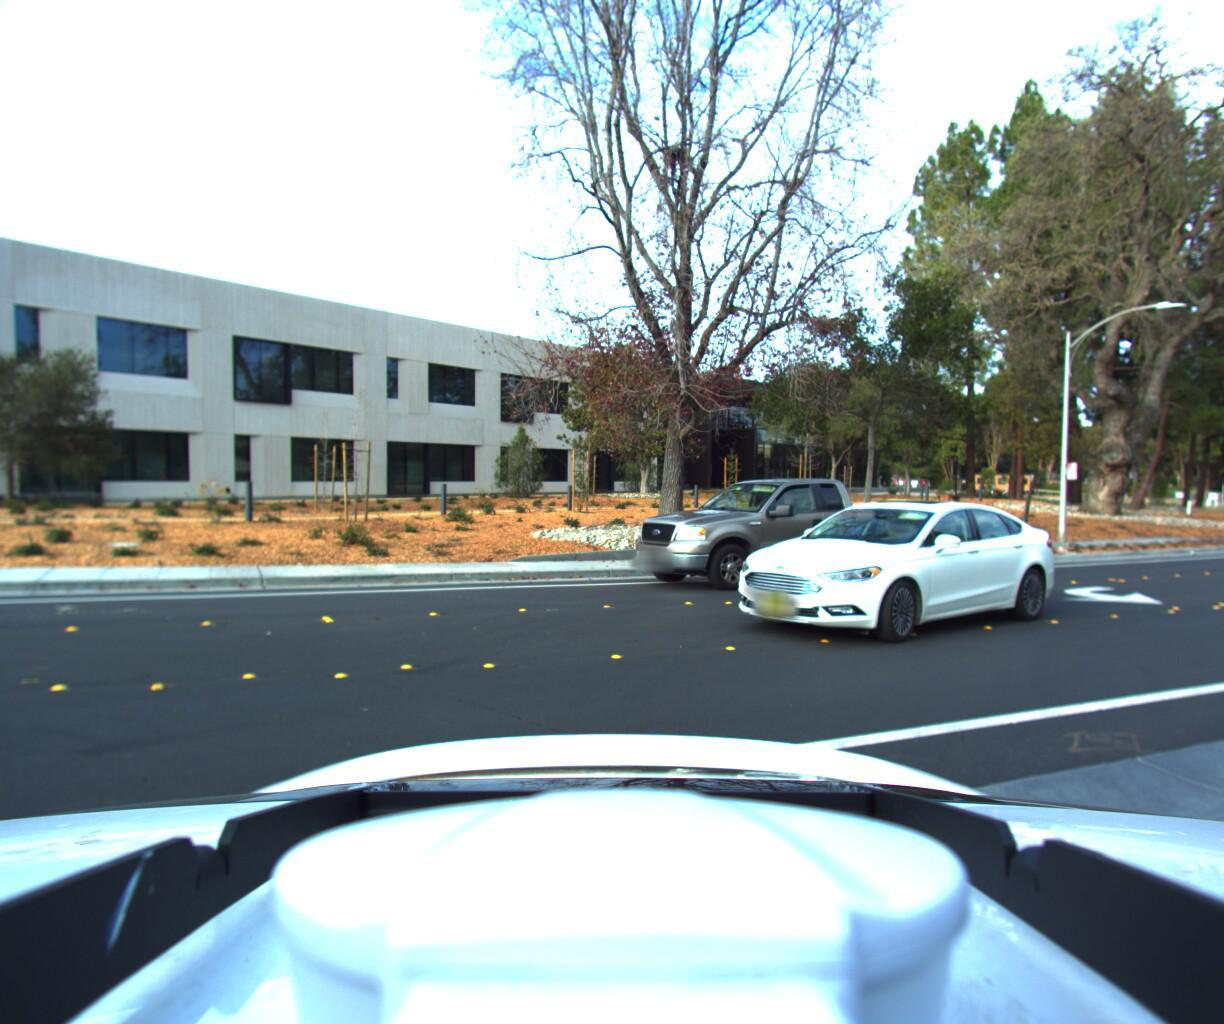car: (688, 491, 1070, 674), (579, 460, 935, 598)
